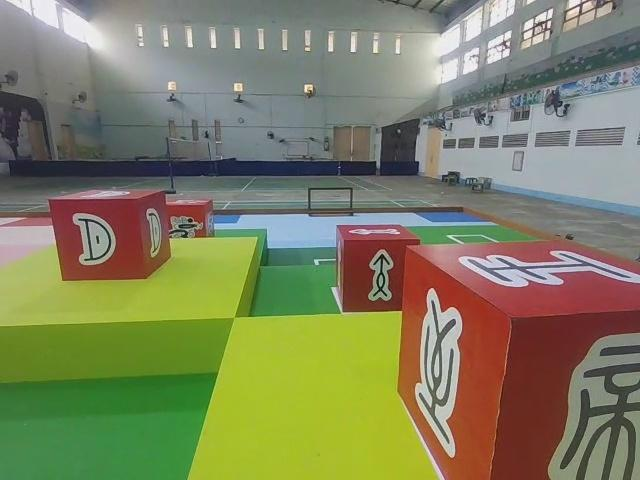R1: (164, 197, 217, 248)
R2 Fake: (395, 237, 639, 480)
R2 Real: (47, 187, 173, 284), (334, 222, 421, 316)
